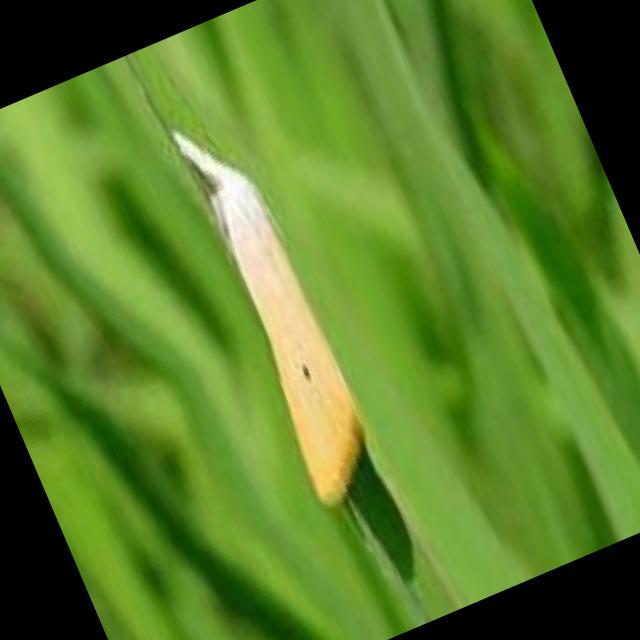stem-borer: (161, 103, 392, 514)
